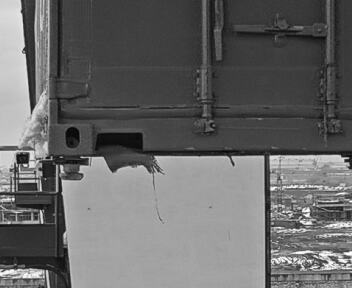twist_lock_1: (47, 151, 95, 189)
